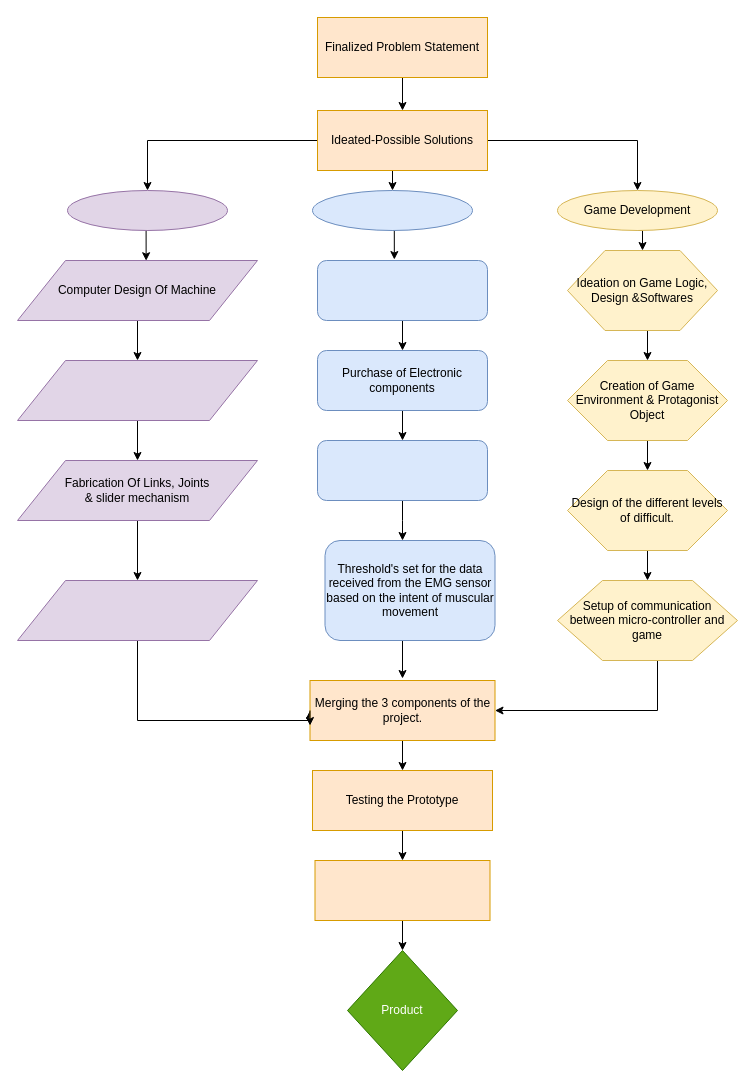
This 755x1088 diagram has some shape labels left out. Here are the shapes that lost their labels. From the top down, the box of each, then its label:
(66, 190, 228, 230): Mechanics
(312, 190, 472, 230): Electronics
(316, 260, 488, 320): Analysis of Required electronic Components
(16, 360, 258, 420): Purchase Of Components
(316, 440, 488, 500): Circuit Implementation &Design
(16, 580, 258, 640): Assembling the complete mechanism
(314, 860, 490, 920): Error Correction & Other Improvements
